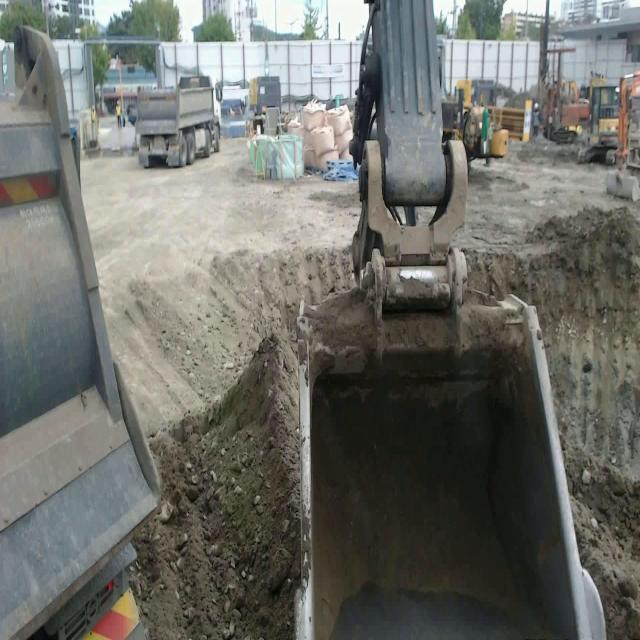red-sand: (83, 140, 359, 639), (458, 146, 640, 639)
